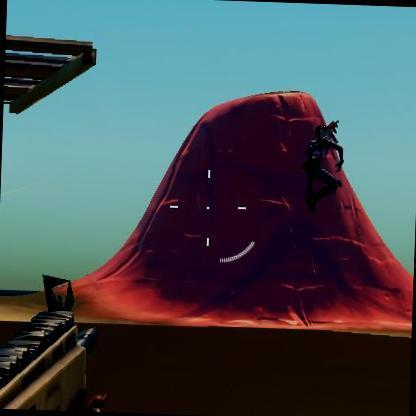person: (298, 126, 332, 217)
